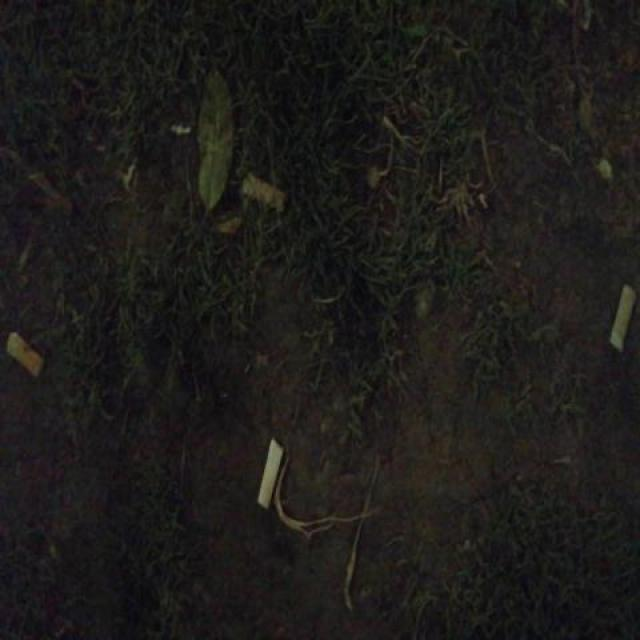non-organic waste: (1, 324, 47, 384), (238, 166, 291, 218), (252, 436, 288, 512), (604, 278, 640, 354)
